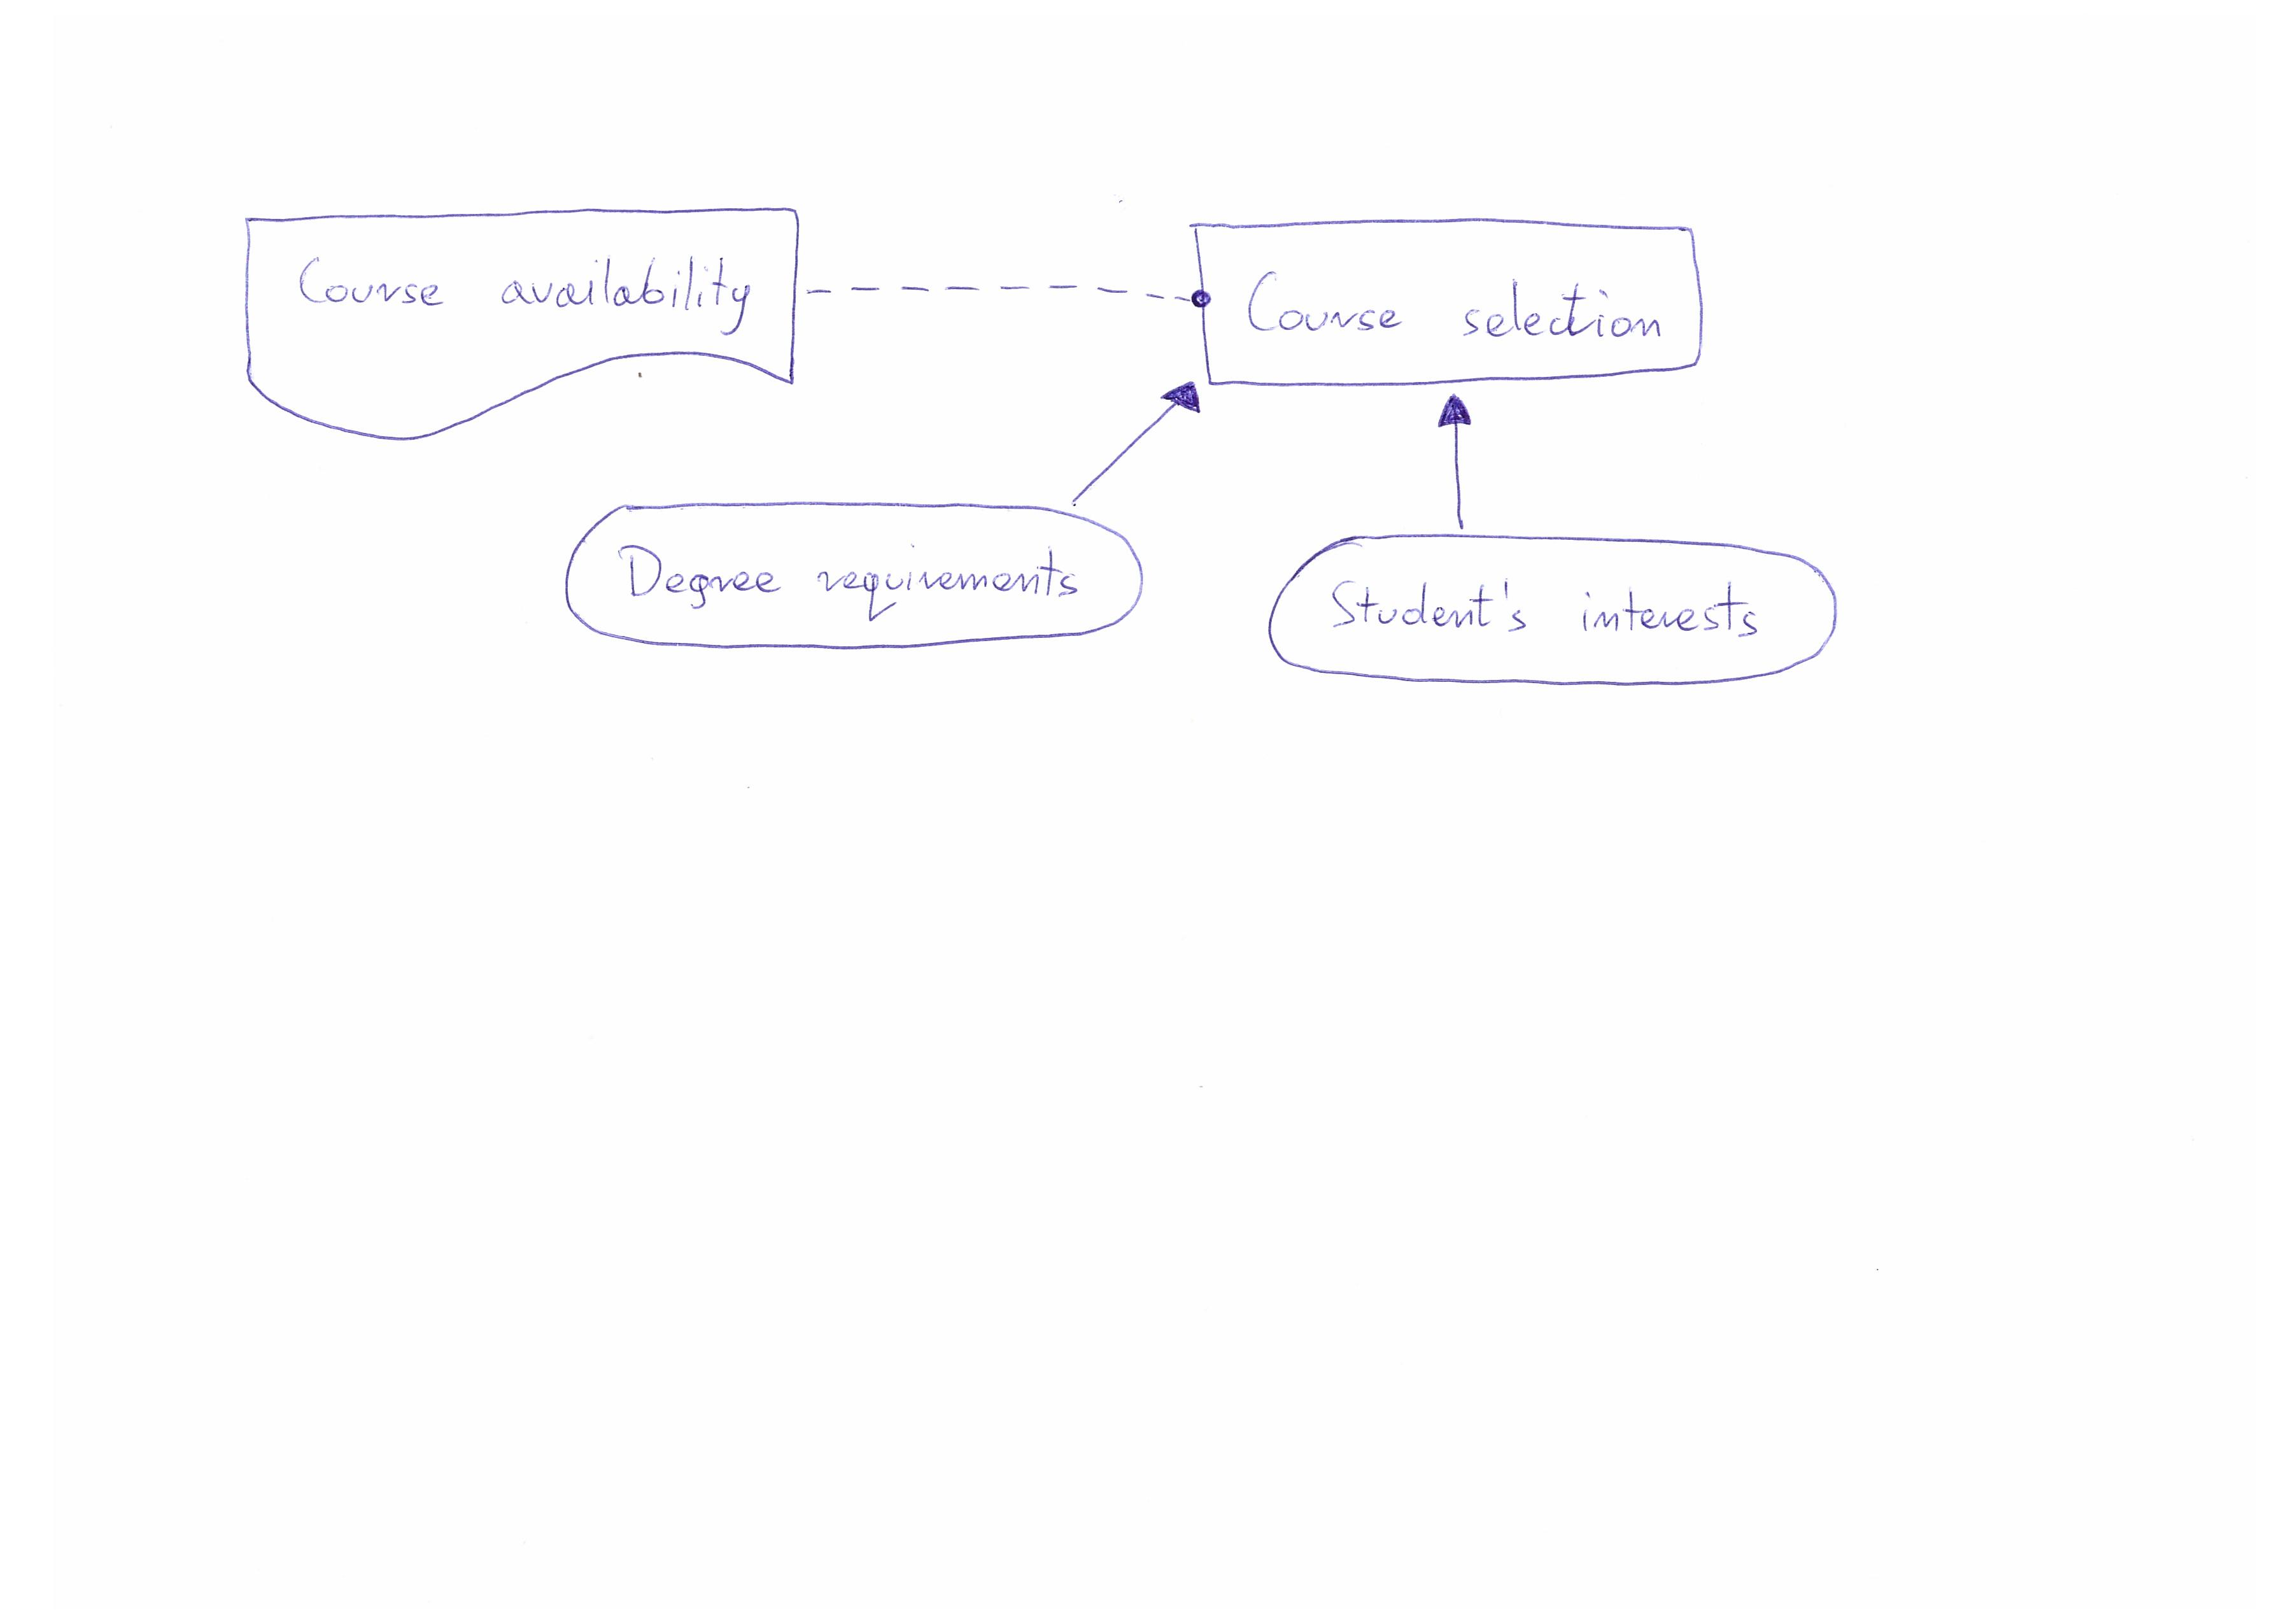arrow_authority_requirement: (800, 267, 1216, 343)
arrow_information_requirement: (1061, 374, 1204, 513), (1420, 385, 1504, 534)
node_decision: (1188, 202, 1720, 390)
node_input_data: (1249, 524, 1864, 710), (548, 494, 1167, 670)
node_knowledge_source: (232, 202, 810, 448)
text: (285, 243, 768, 344), (604, 534, 1093, 627), (1325, 564, 1776, 661), (1242, 264, 1676, 360)
